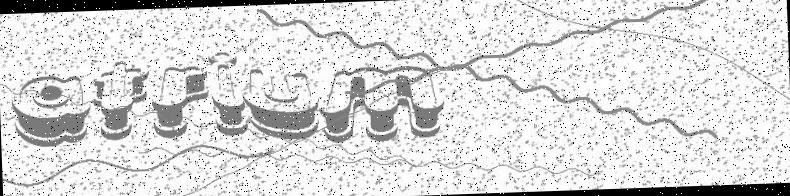a: (10, 74, 92, 149)
i: (206, 51, 250, 138)
m: (318, 64, 442, 143)
r: (150, 64, 213, 140)
t: (91, 60, 150, 142)
u: (241, 66, 322, 143)
